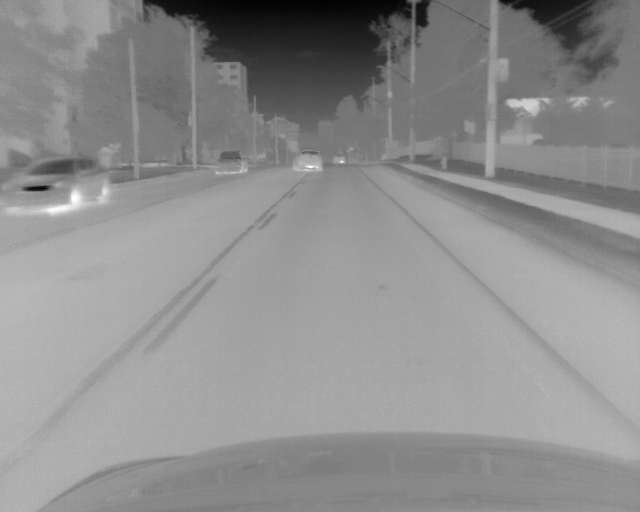car: (1, 155, 111, 212), (214, 149, 250, 176), (290, 148, 323, 173), (332, 152, 345, 166)
